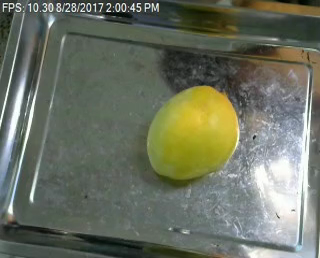Mango: (148, 86, 240, 182)
